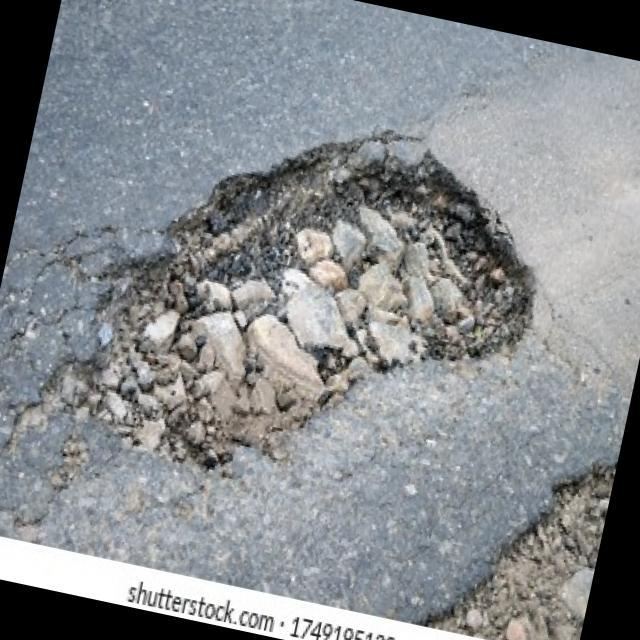Pothole: (52, 74, 564, 535), (408, 404, 621, 640)
